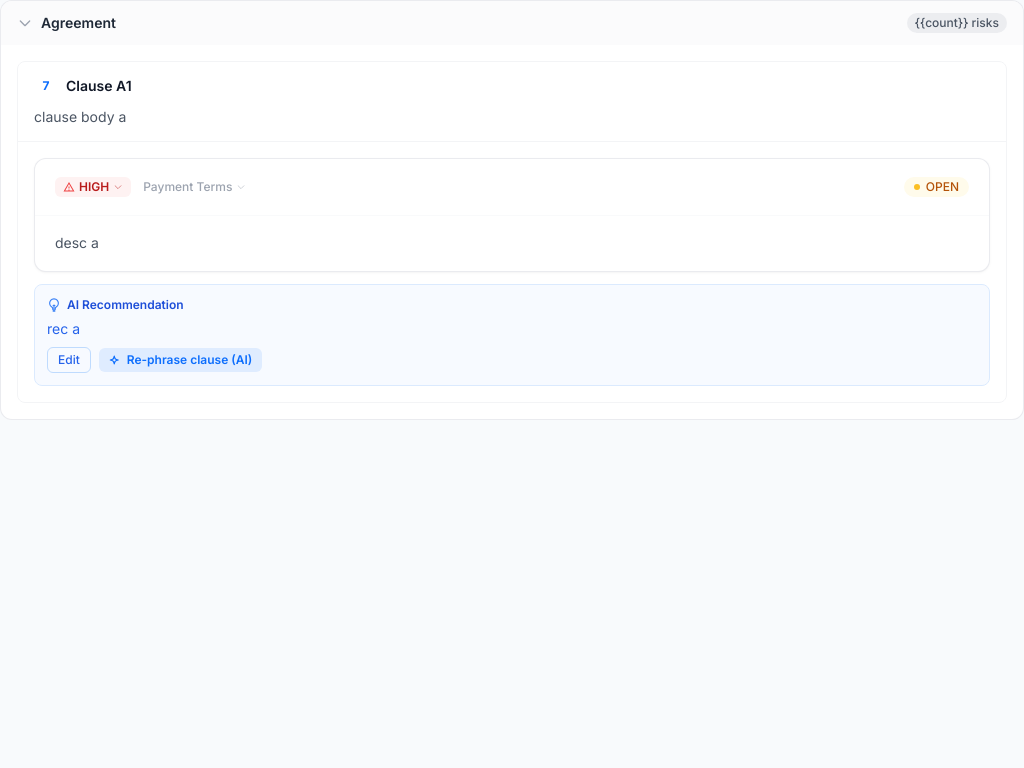
it: RiskAnalysisTab — recommendation states › CONFIRM DIALOG cancel does NOT save; stays in editing (FIX 2)
Click the button "Edit".
click(69, 360)  # box top-left (47, 346), bottom-right (91, 372)
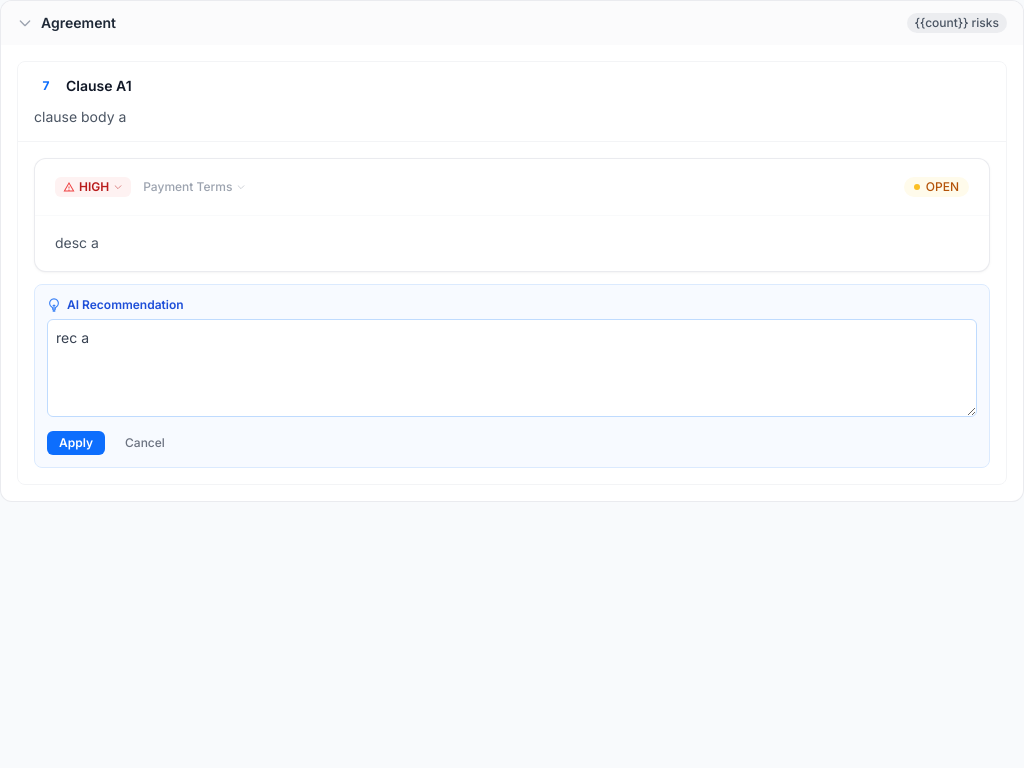
Replace the text in the text box with placeholder "Recommendation…" with "discarded edit" at {"x": 512, "y": 368}, box top-left (47, 318), bottom-right (977, 416)
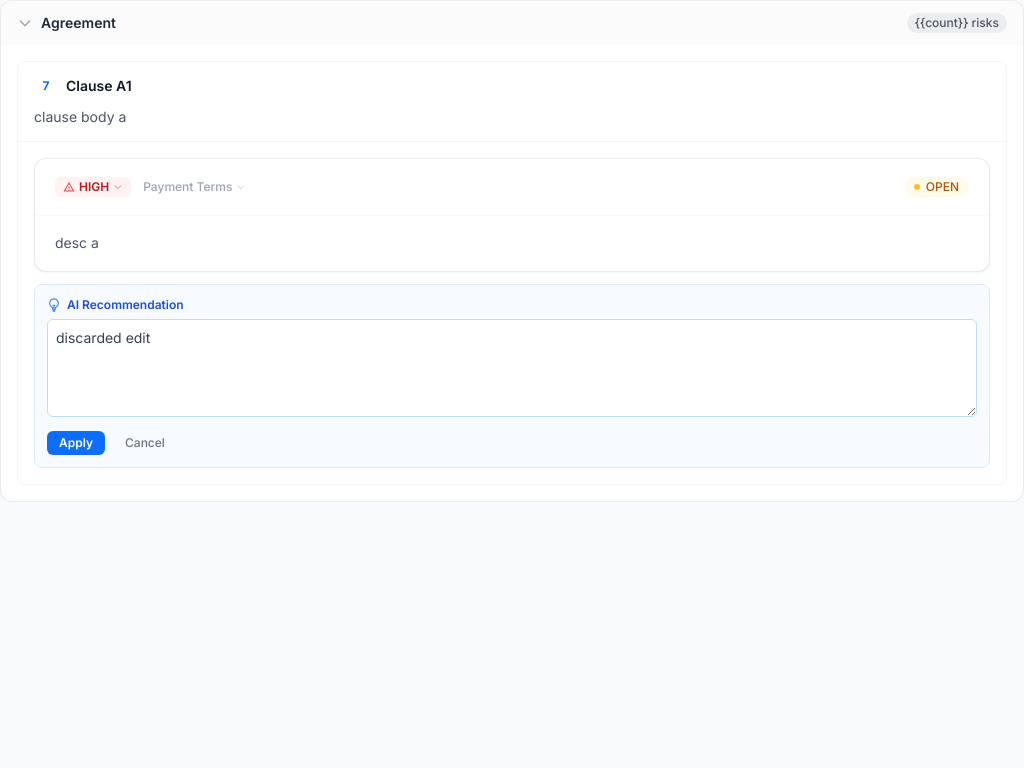
Click the button "Apply".
click(76, 442)  # box top-left (47, 430), bottom-right (105, 454)
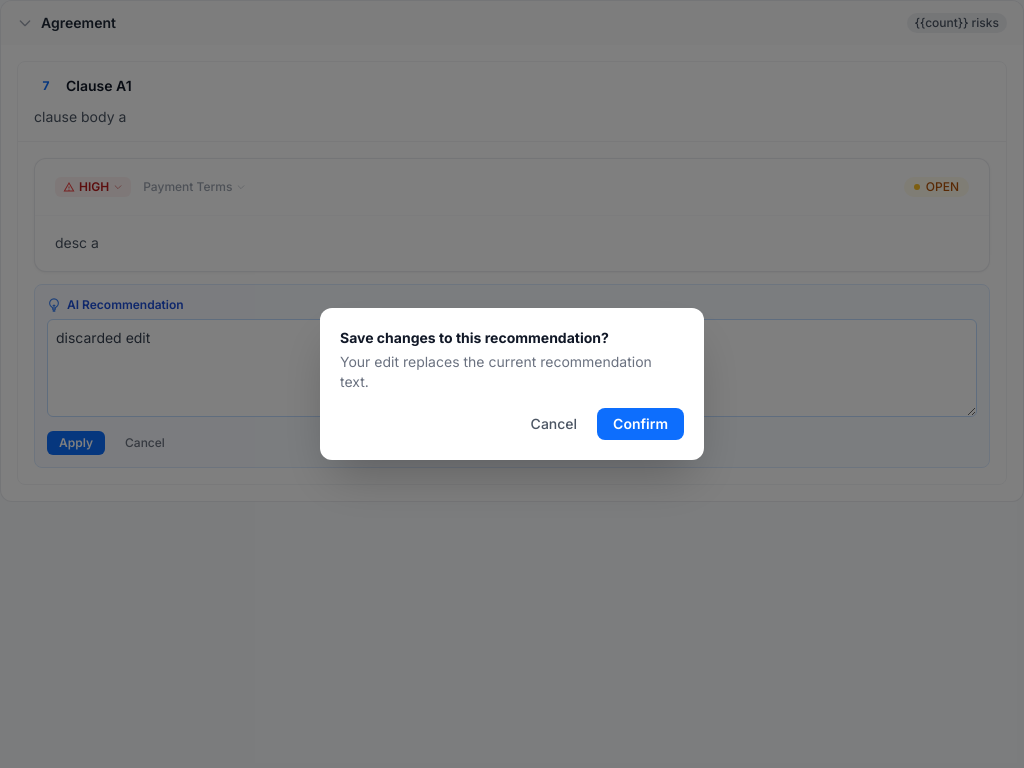
// Two "Cancel" now: the editing one + the dialog's (rendered last).
Click the button "Cancel".
click(554, 424)  # box top-left (519, 408), bottom-right (589, 440)
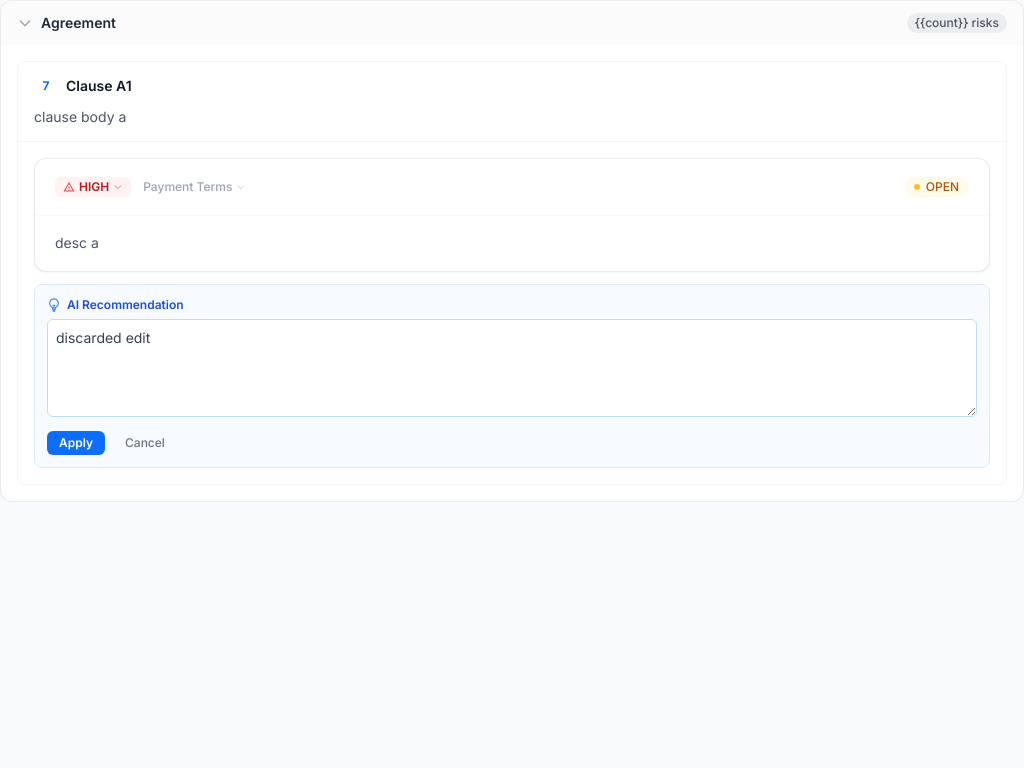
Now the heading "Save changes to this recommendation?" is gone
